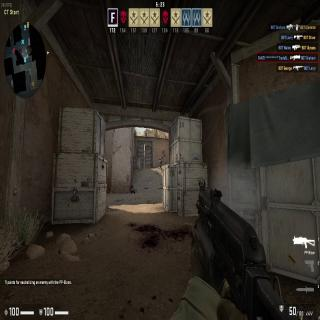T-Body: (160, 157, 162, 170)
T-Head: (159, 157, 161, 160)
